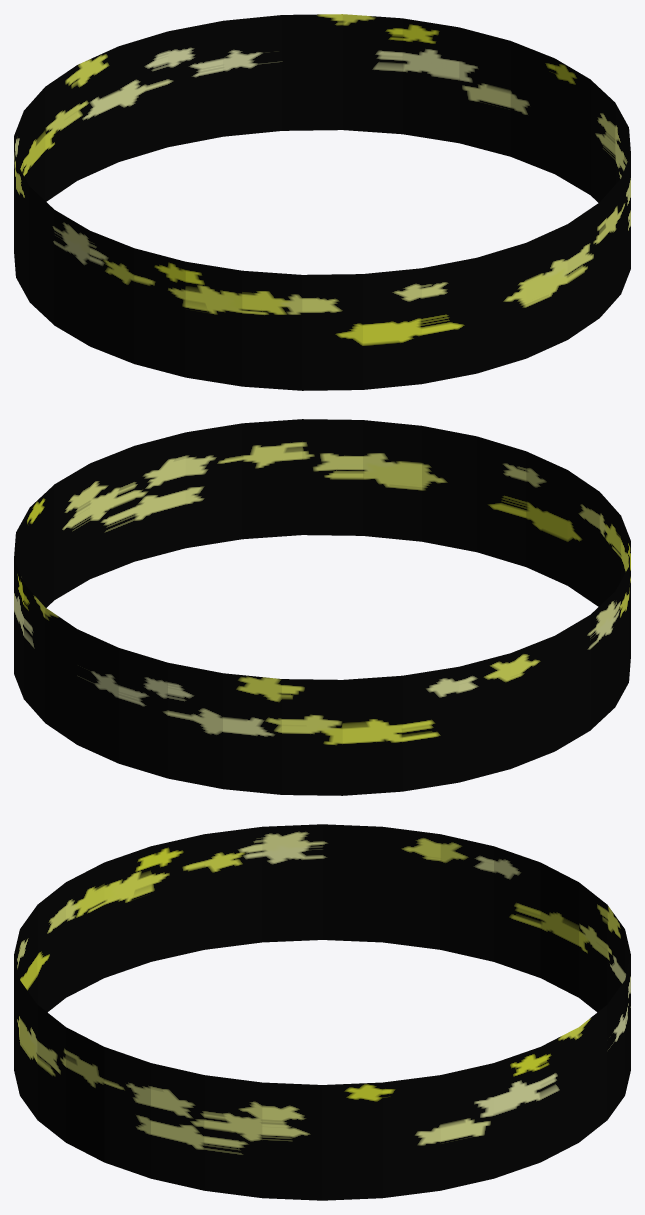
Rendered from PiyoPiyo.obj.
The picture shows the model from 3 angles, top to bottom: view 1: azimuth 30°, elevation 25°; view 2: azimuth 150°, elevation 25°; view 3: azimuth 270°, elevation 25°; orthographic projection.
Parts seen in each view (by area): view 1: 円柱; view 2: 円柱; view 3: 円柱.
Boxes of the visible parts, box(x1,y1,x2,y2) form: 円柱: box(14, 14, 630, 390); 円柱: box(14, 419, 630, 795); 円柱: box(14, 824, 630, 1200).
Bounding box in the file's own units: 2 × 0.4138 × 2.
Materials: 1 (1 with a texture image).
